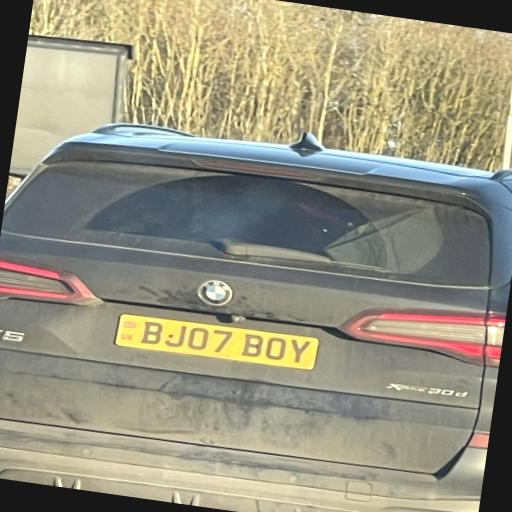numberplates: (116, 314, 319, 370)
